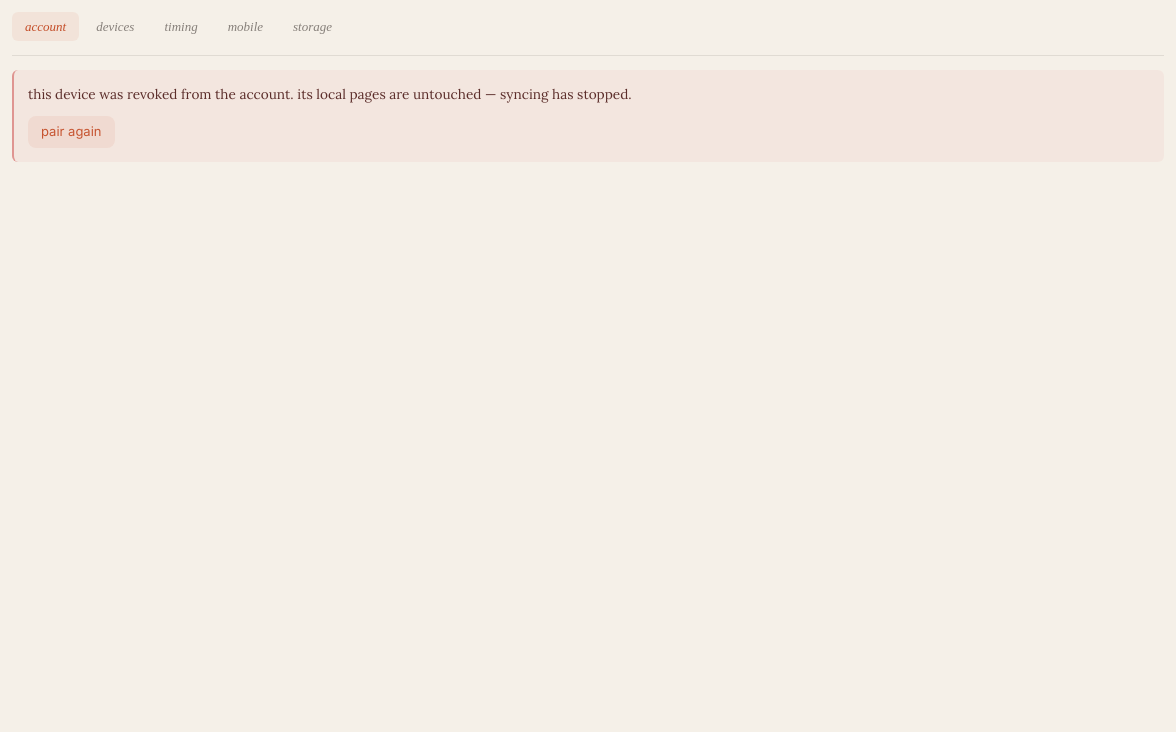
Test: SyncSettings › shows the revoked note instead of the paired surface, and pair-again clears credentials into the pairing wizard
Click the button "pair again" at (71, 132), box [28,116,114,148]
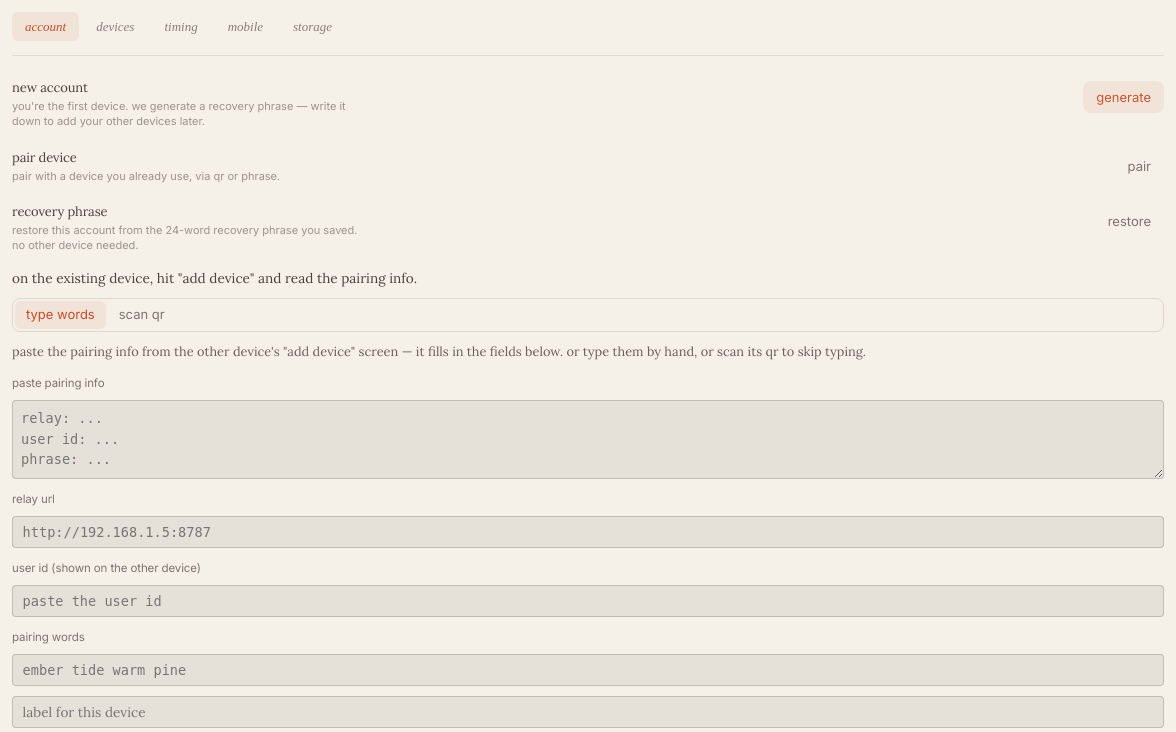
Now the text "on the existing device, hit \"add device\" and read the pairing info." is shown, box [12,269,417,287]
